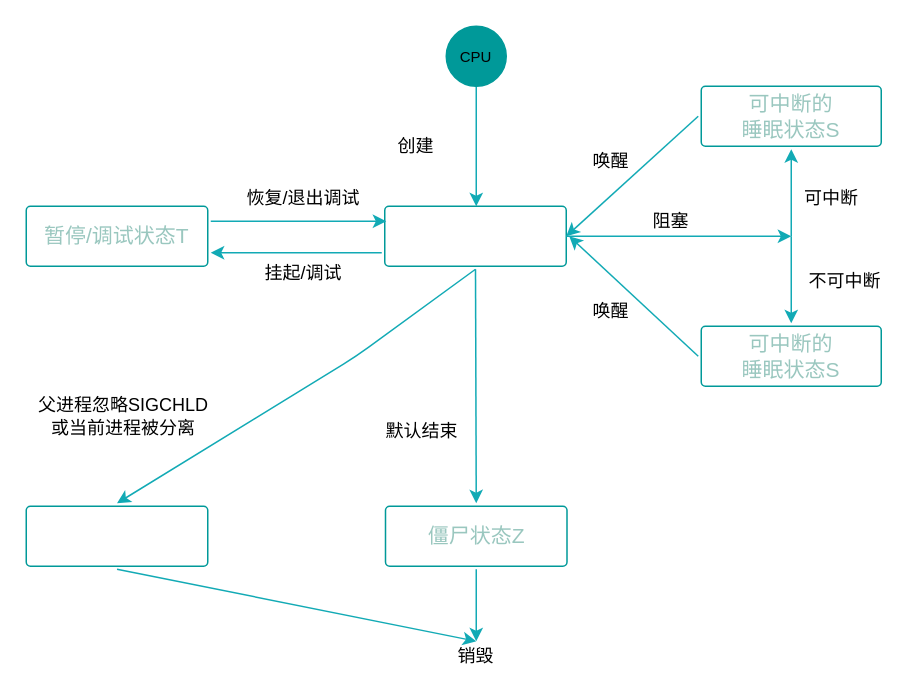
Image size: 915x698. Some labels were removed from this diagram. The box of each missing label's shape, as (x1, y1, x2, y2) in pixels:
可运行状态R: (383, 205, 566, 266)
退出状态X: (25, 505, 208, 566)
